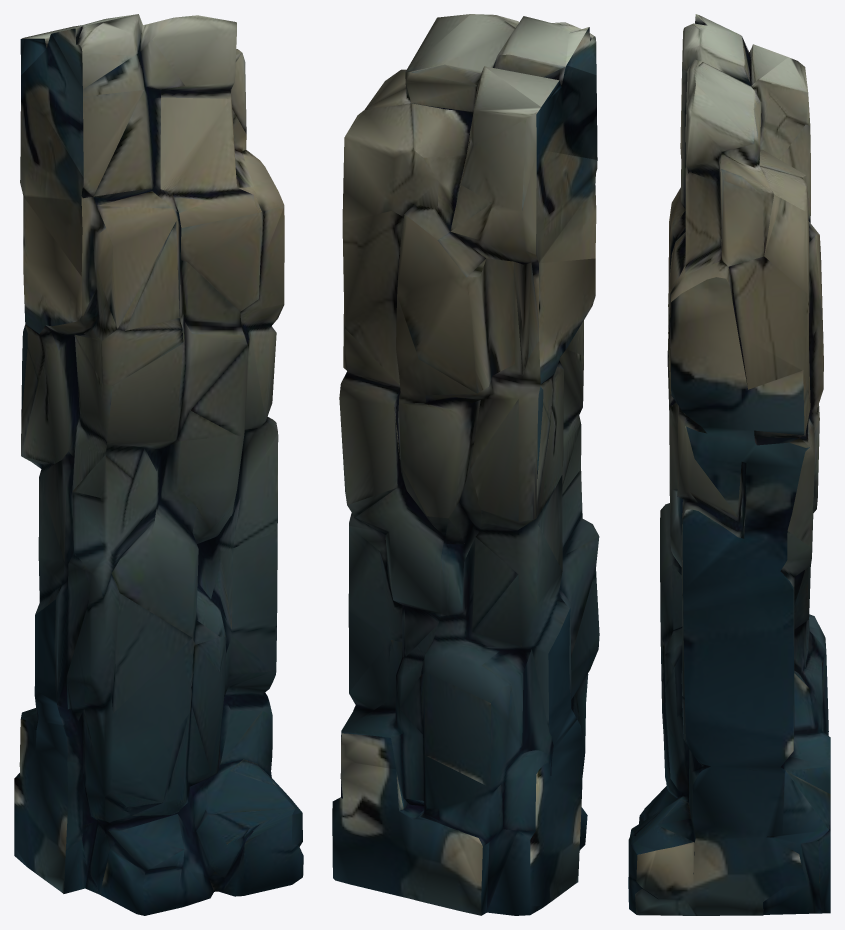
File: cliff_tall_b.glb
3 views of the same model, side by side, from view 1: azimuth 30°, elevation 25°; view 2: azimuth 150°, elevation 25°; view 3: azimuth 270°, elevation 25° (orthographic). The views are drawn at different scales.
Visible parts, largest first — view 1: CLIFF_TALL_B; view 2: CLIFF_TALL_B; view 3: CLIFF_TALL_B.
Part boxes in pixels (x1=…): CLIFF_TALL_B: x1=14, y1=14, x2=303, y2=915; CLIFF_TALL_B: x1=332, y1=14, x2=599, y2=915; CLIFF_TALL_B: x1=628, y1=14, x2=830, y2=915.
Bounding box in the file's own units: 1.08 × 4.6 × 1.04.
1 material, 1 textured.
